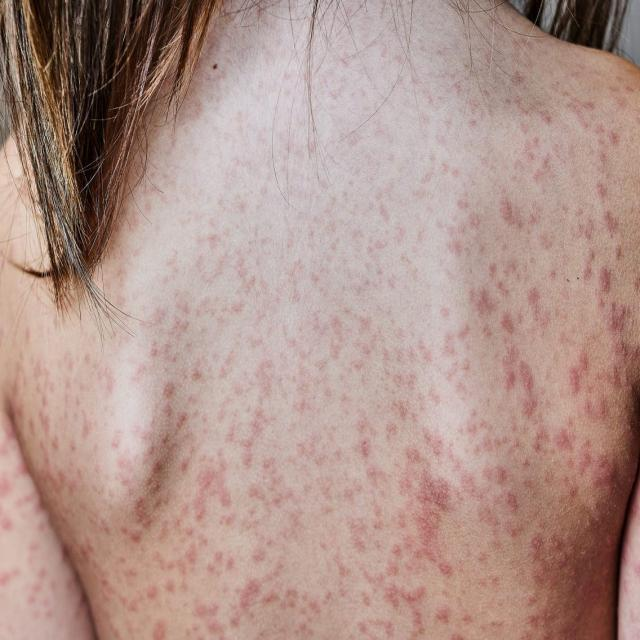hives: (20, 142, 633, 640)
